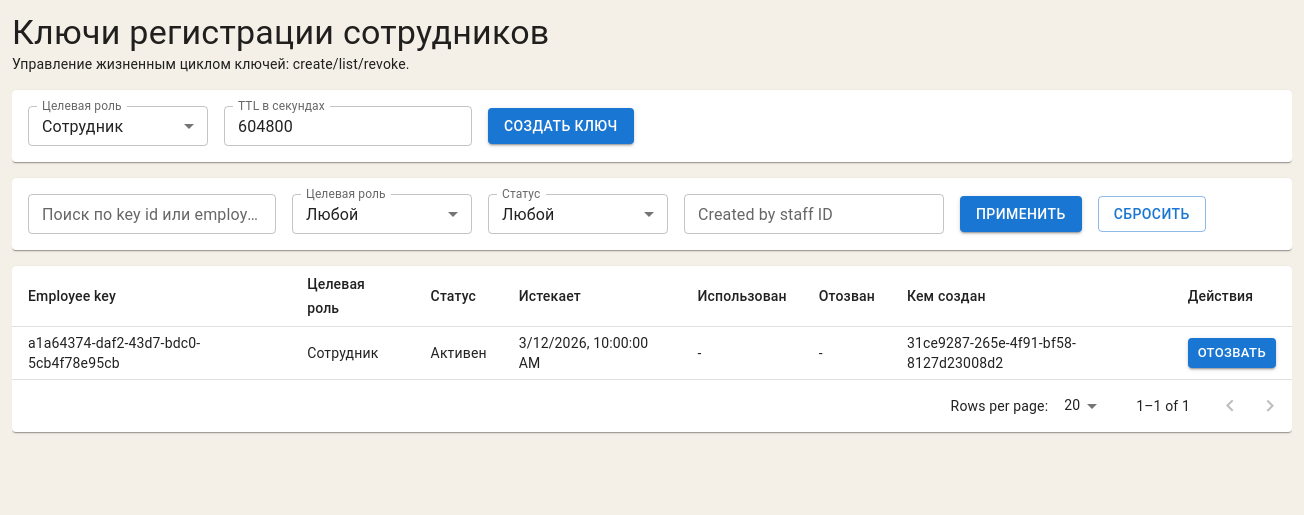
Test: AdminEmployeeKeysManagementPage › maps revoke reason-code to localized error message
Expected: the text "a1a64374-daf2-43d7-bdc0-5cb4f78e95cb" is shown, [12,326,291,380]
Click the button "Отозвать".
click(1232, 353)  # box [1188,338,1276,368]
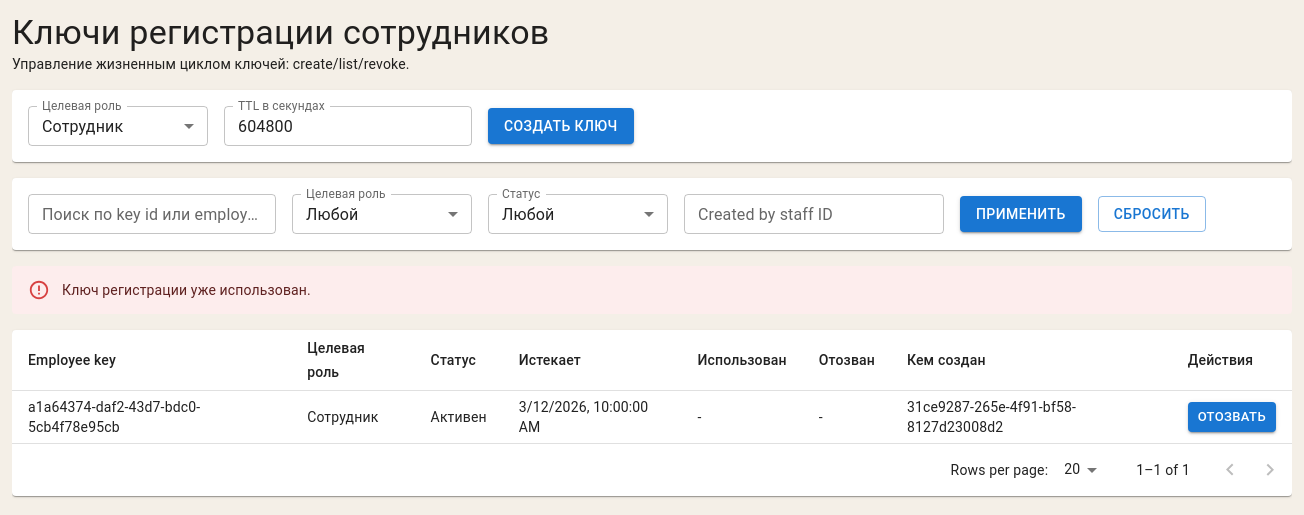
Now the text "Ключ регистрации уже использован." is shown, box [62,282,311,298]
